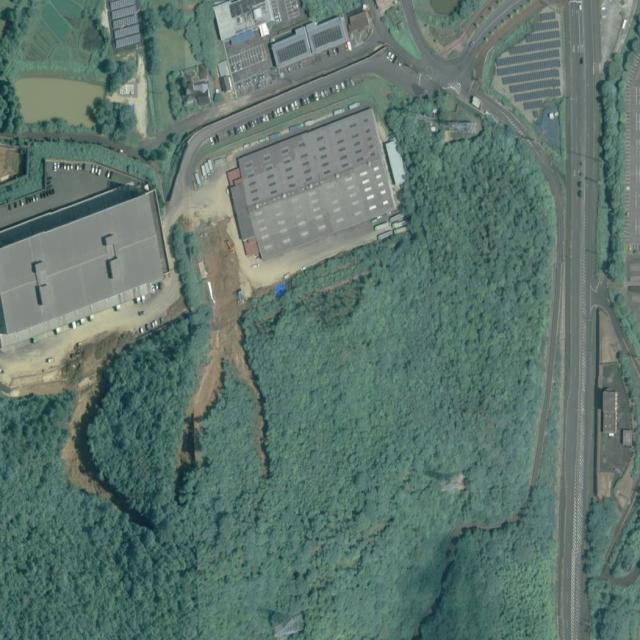landslide: (179, 221, 265, 475), (61, 365, 112, 500)
